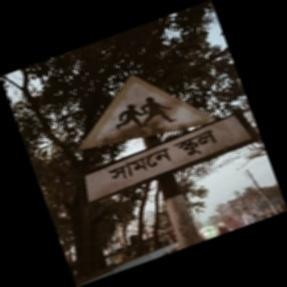School-in-front: (80, 76, 253, 206)
